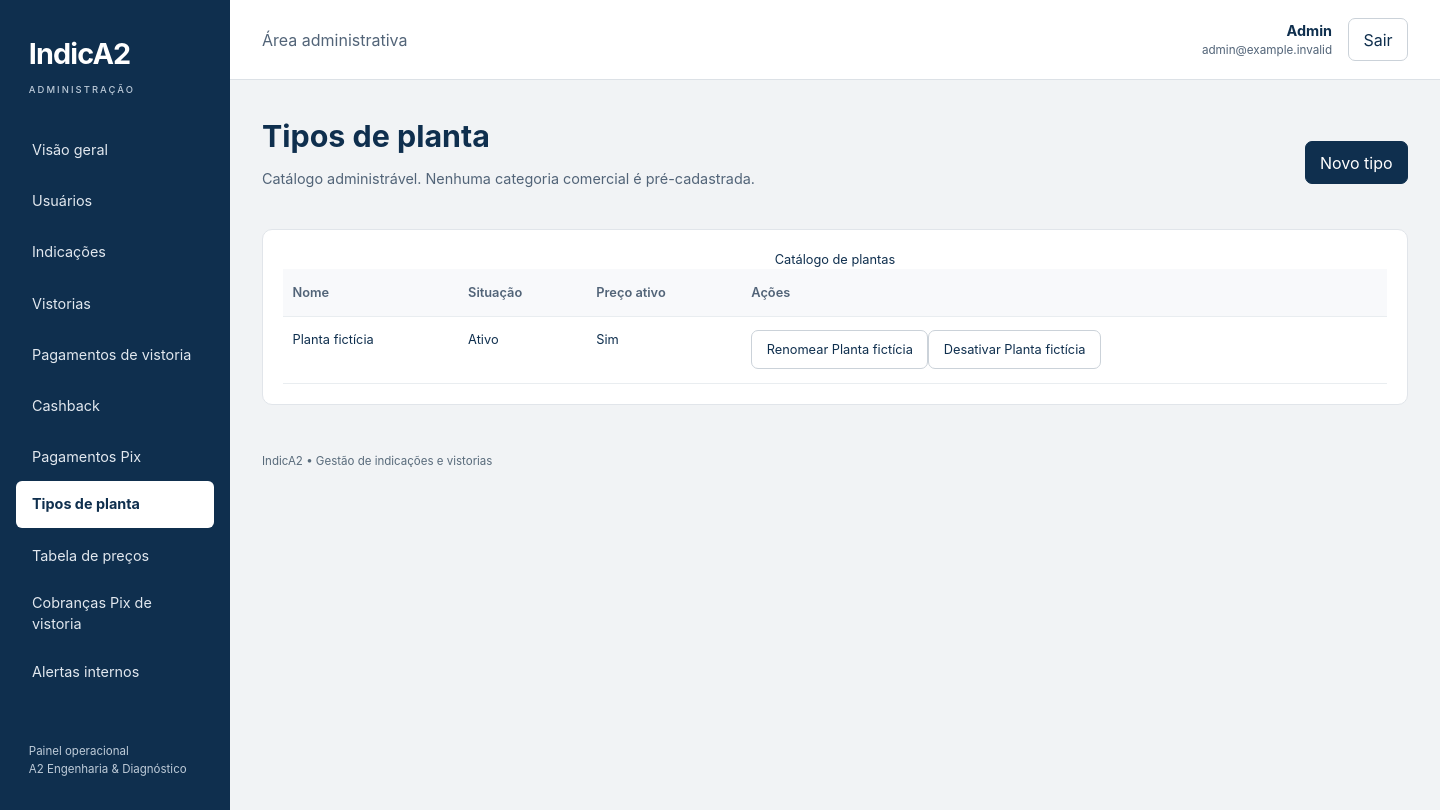
conflito ao desativar orienta remover preço ativo
The image size is (1440, 810).
Click the button "Desativar Planta fictícia" at (1015, 350), box [928,330,1101,369]
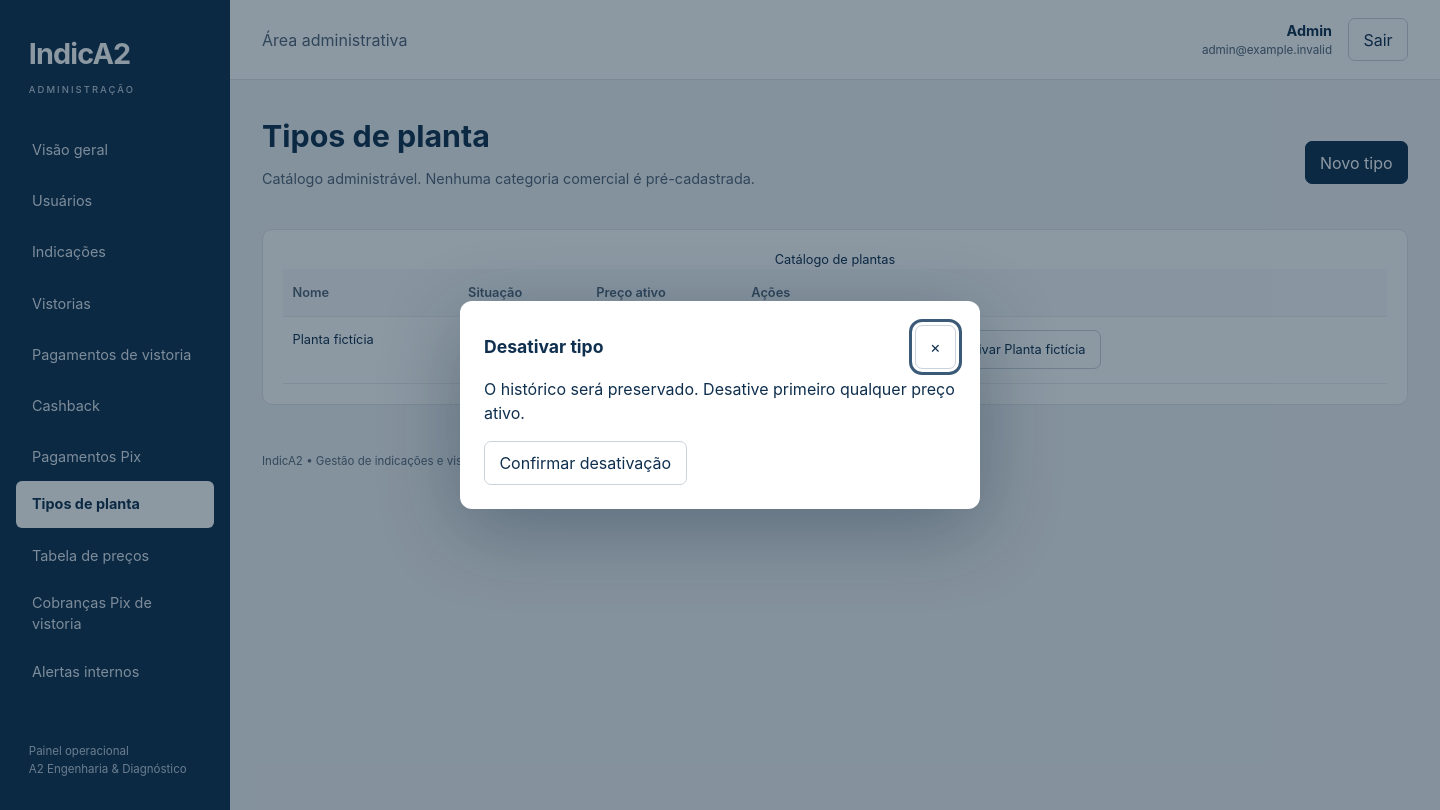
Click the button "Confirmar desativação" at (585, 463), box [484,441,686,485]
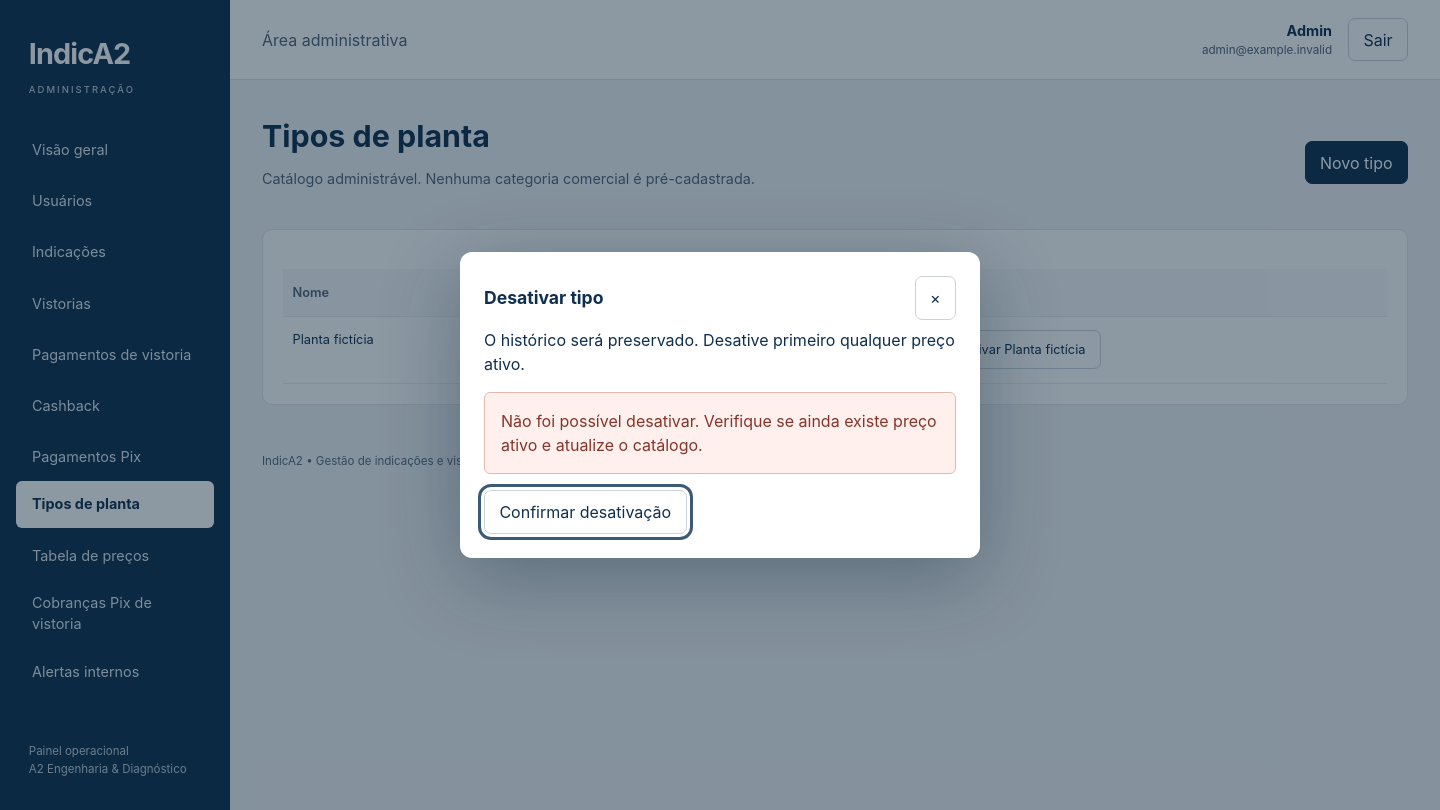
Result: the message shows "preço ativo" at [501,411,937,455]
